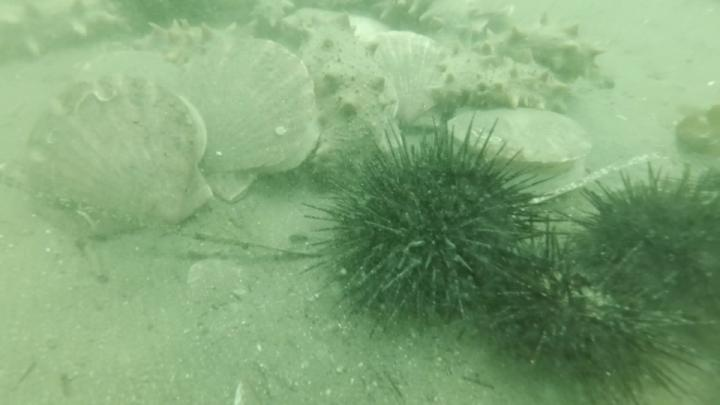echinus: (298, 117, 556, 341), (472, 229, 711, 403), (565, 159, 720, 317), (373, 1, 445, 42)
holothurian: (295, 11, 401, 190), (474, 13, 609, 87), (1, 1, 133, 64), (131, 14, 274, 71), (457, 61, 577, 117), (416, 1, 519, 43)
scallop: (23, 80, 216, 239), (170, 30, 325, 207), (444, 104, 594, 192), (572, 149, 708, 214), (368, 31, 455, 130), (416, 1, 519, 44), (184, 256, 249, 310)
